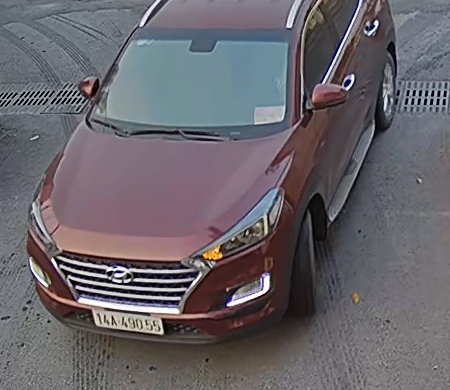vehicle plate: (85, 303, 165, 335)
